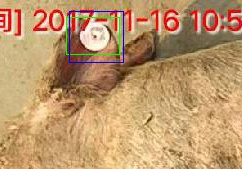text: (66, 17, 119, 54)
